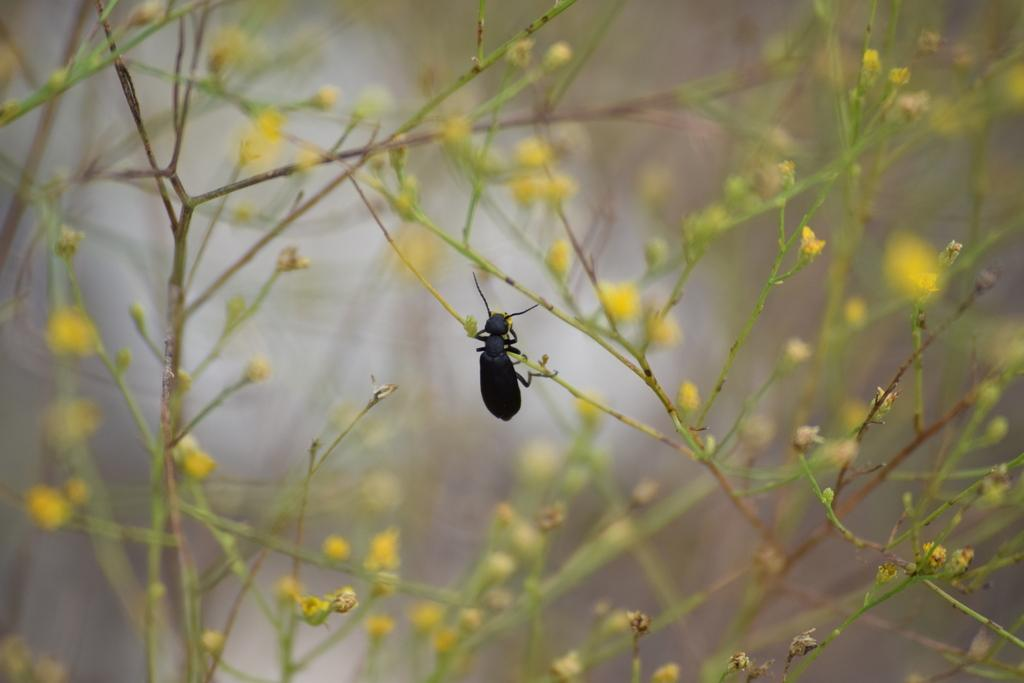blister_beetle: (437, 253, 567, 452)
